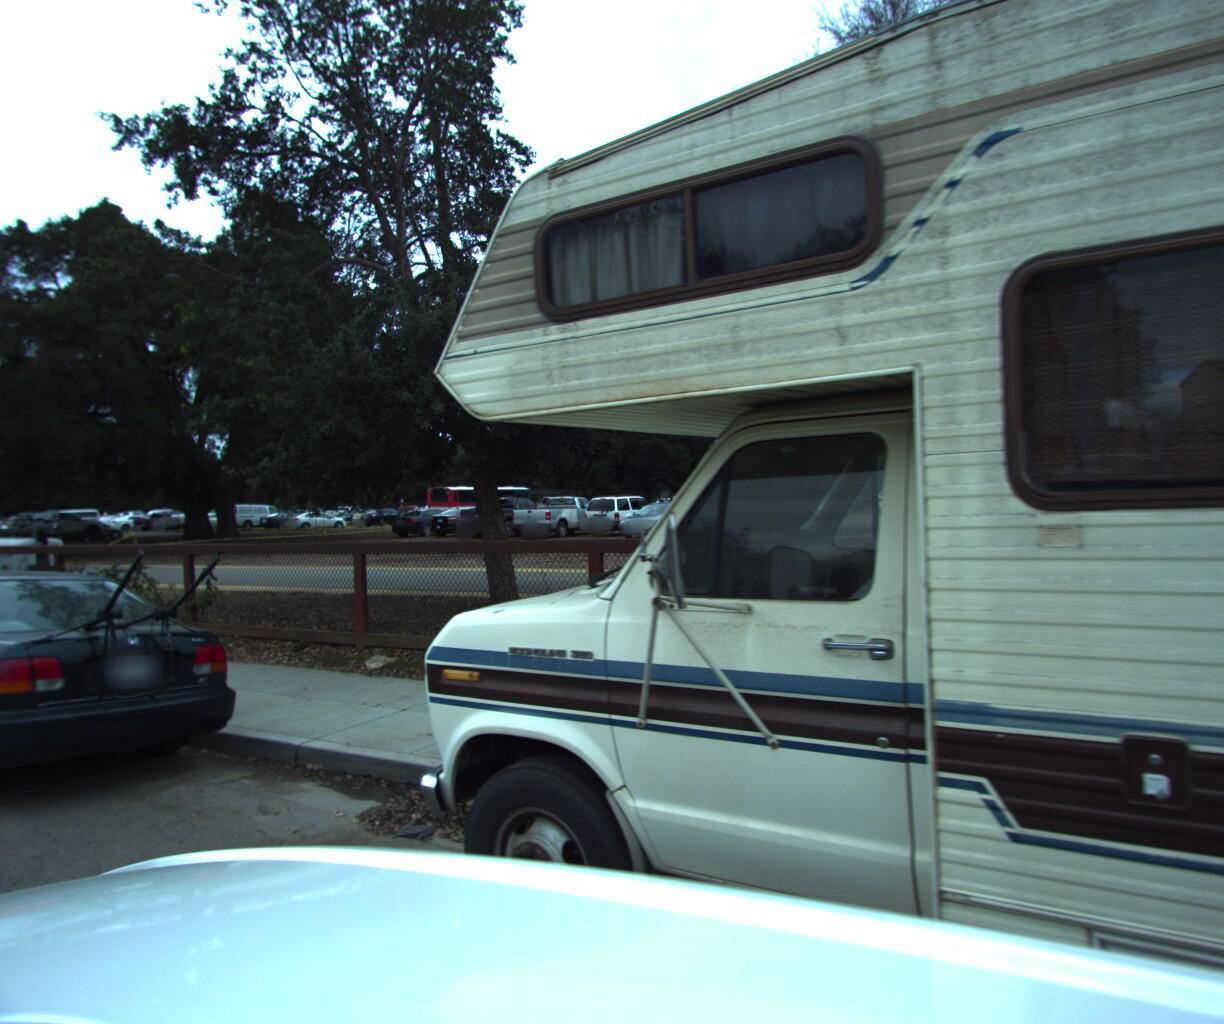car: (0, 553, 261, 858)
